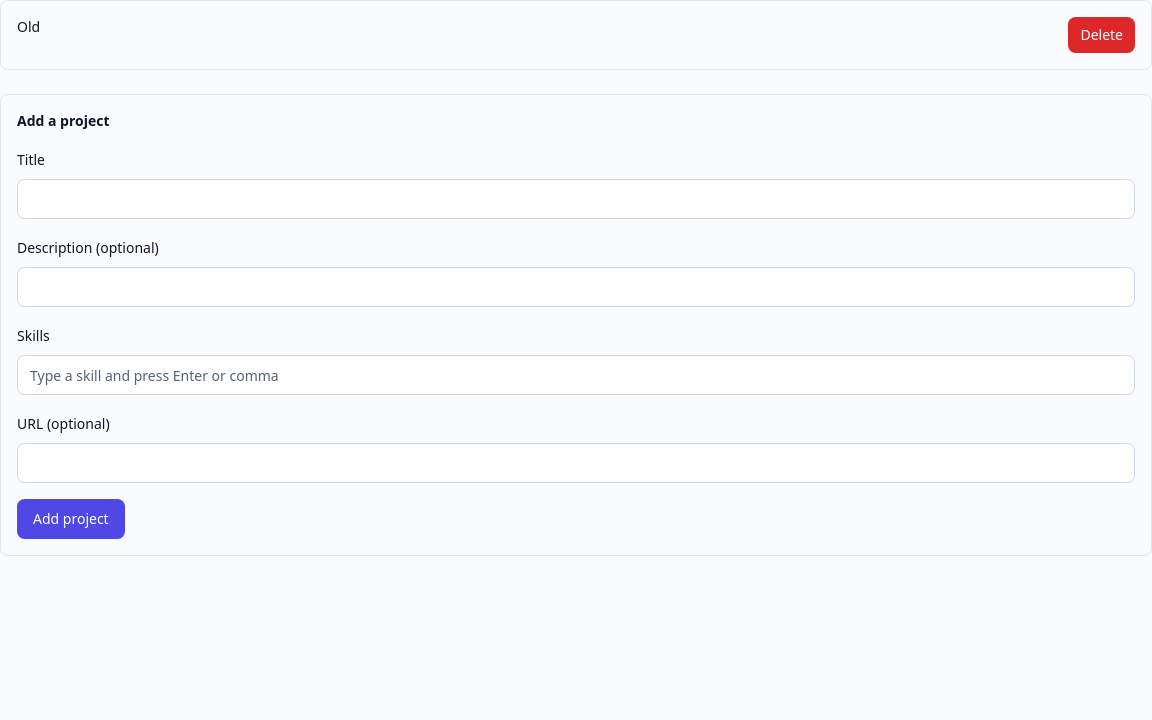
Test case: ProjectsPanel › shows the server error when delete fails and keeps the item
Click the button with aria-label "Delete project Old".
click(1102, 35)  # box [1068,17,1135,53]
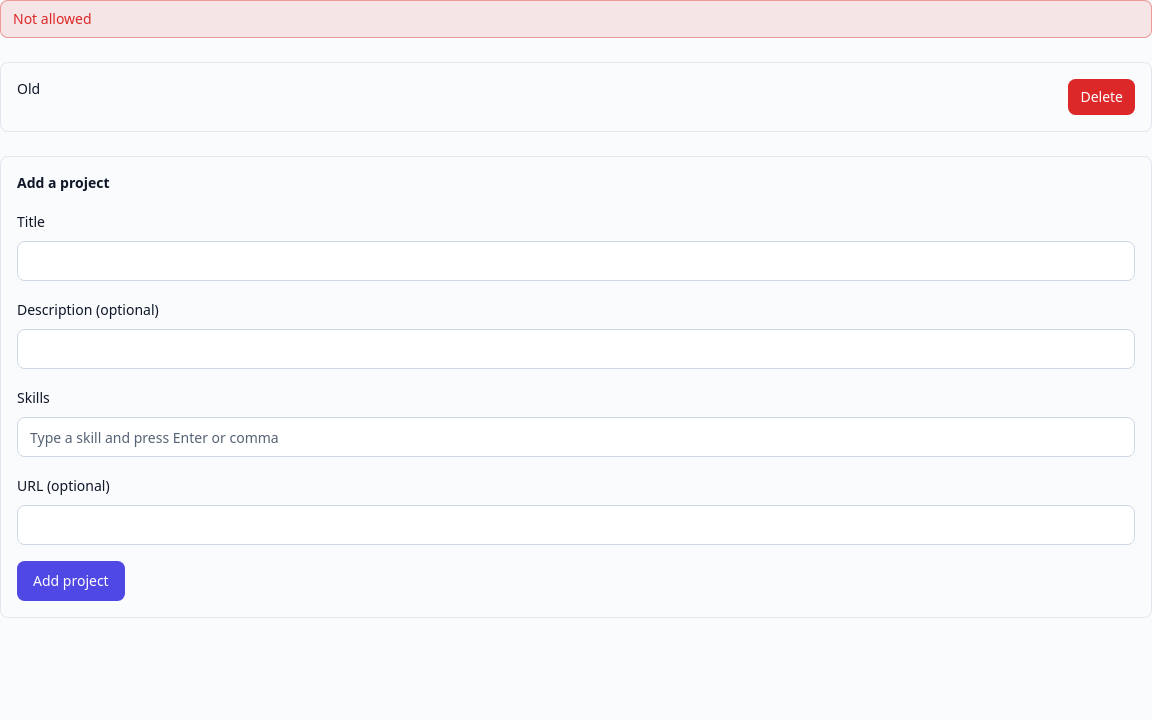
Check: the text "Old" is shown, box [17,79,40,99]
Check: the message reads "Not allowed", box [13,9,92,28]
